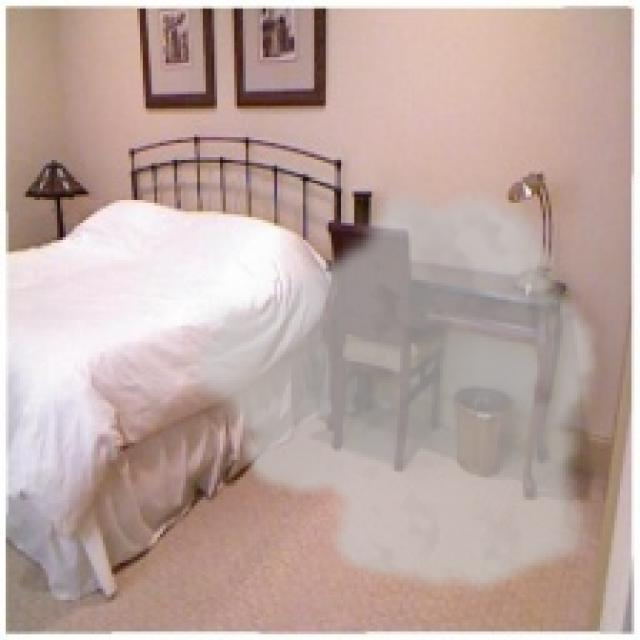Smoke: (180, 177, 603, 597)
